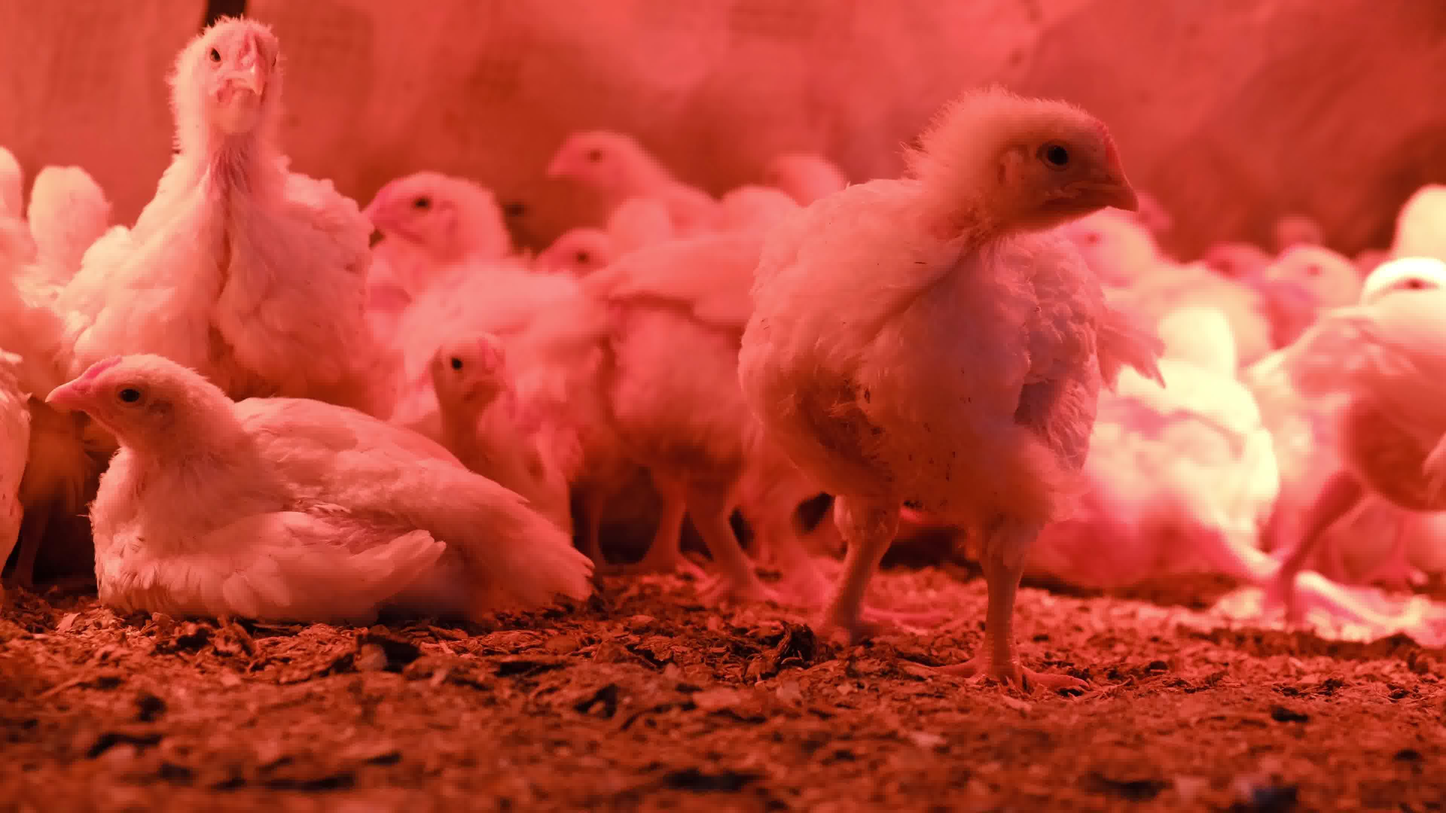AbNormal: (42, 349, 602, 628), (994, 305, 1286, 601), (388, 330, 575, 545)
Normal: (754, 83, 1143, 693), (70, 12, 384, 408), (593, 209, 821, 593), (1247, 266, 1446, 635), (366, 170, 604, 348), (1085, 206, 1269, 353), (548, 125, 730, 232), (27, 158, 117, 300), (1256, 239, 1356, 303), (526, 226, 616, 274)
